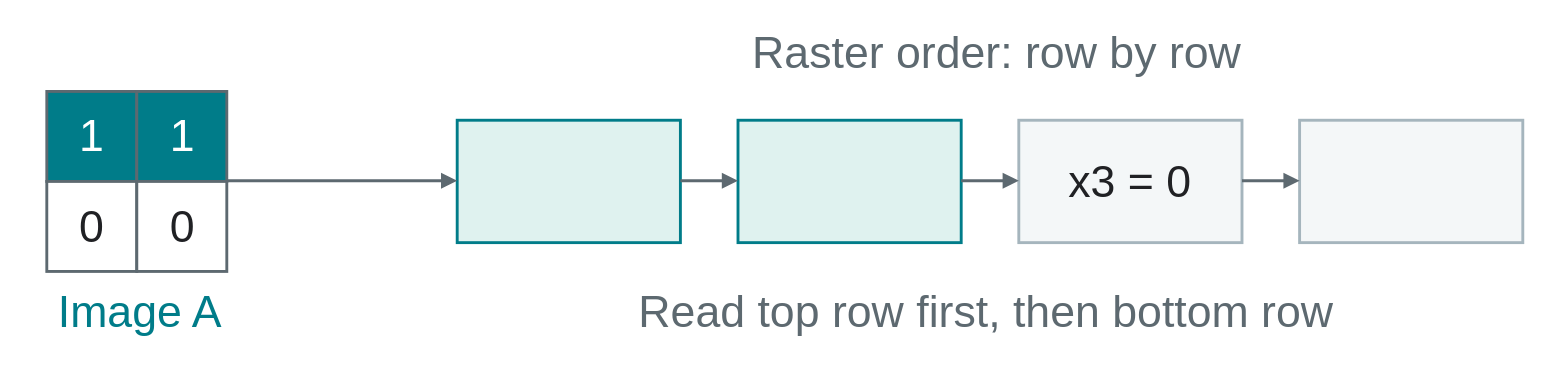
The diagram is 1561 pixels wide and 382 high, and some of its shapes have lost their labels. The shapes that lost their labels are listed below. From the top down, each one's box as (x1, y1, x2, y2) in pixels, then its label:
(455, 118, 681, 243): x1 = 1
(736, 118, 962, 243): x2 = 1
(1297, 118, 1524, 243): x4 = 0
